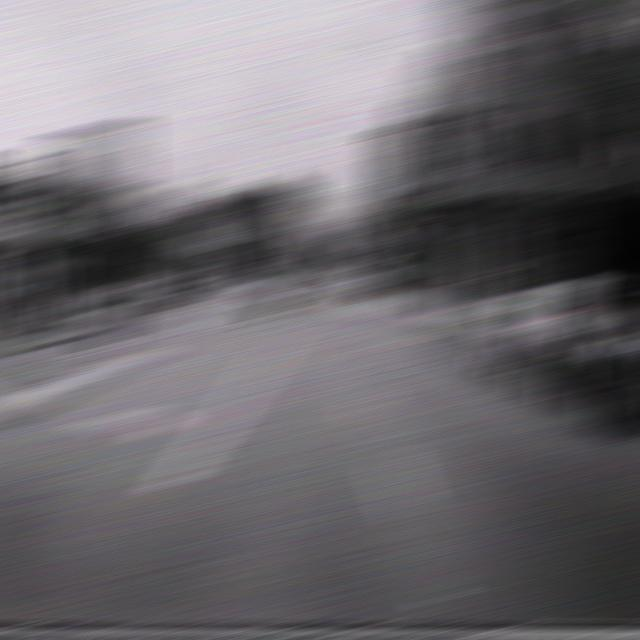speedLimit35: (110, 192, 150, 232), (415, 230, 447, 247)
